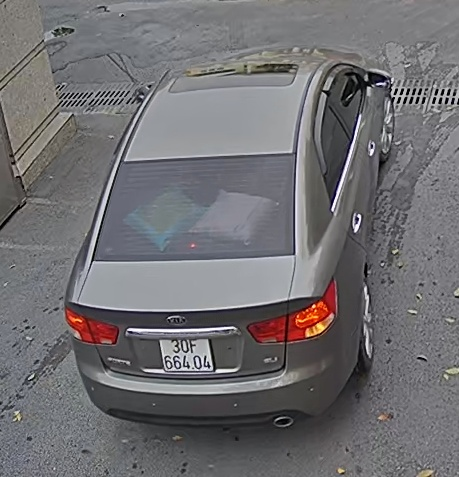vehicle plate: (154, 327, 221, 378)
